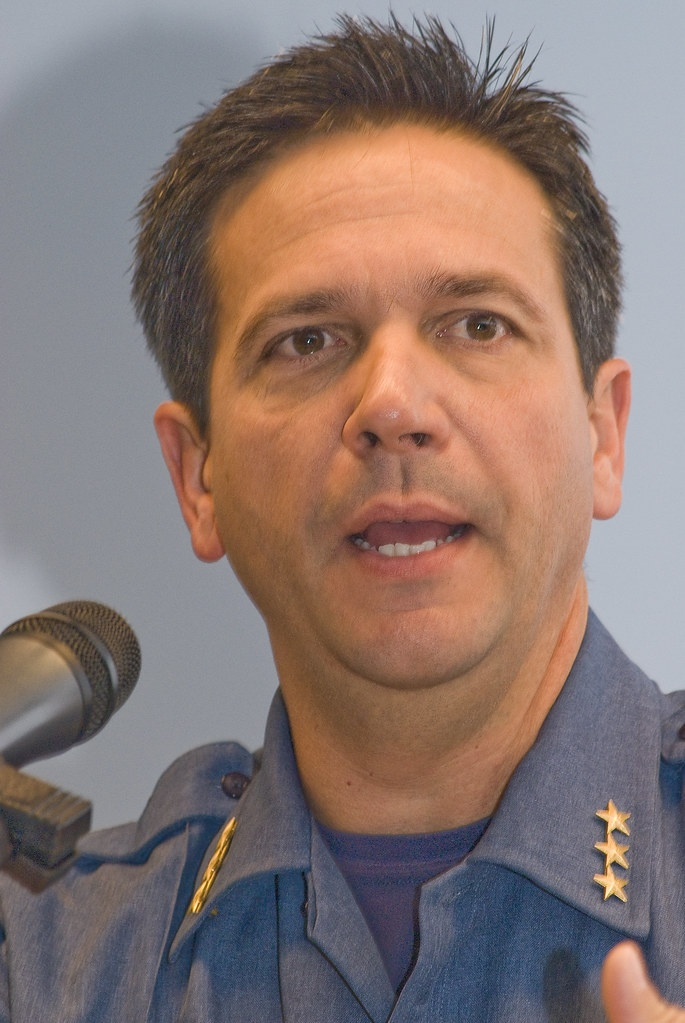without_mask: (184, 120, 628, 720)
